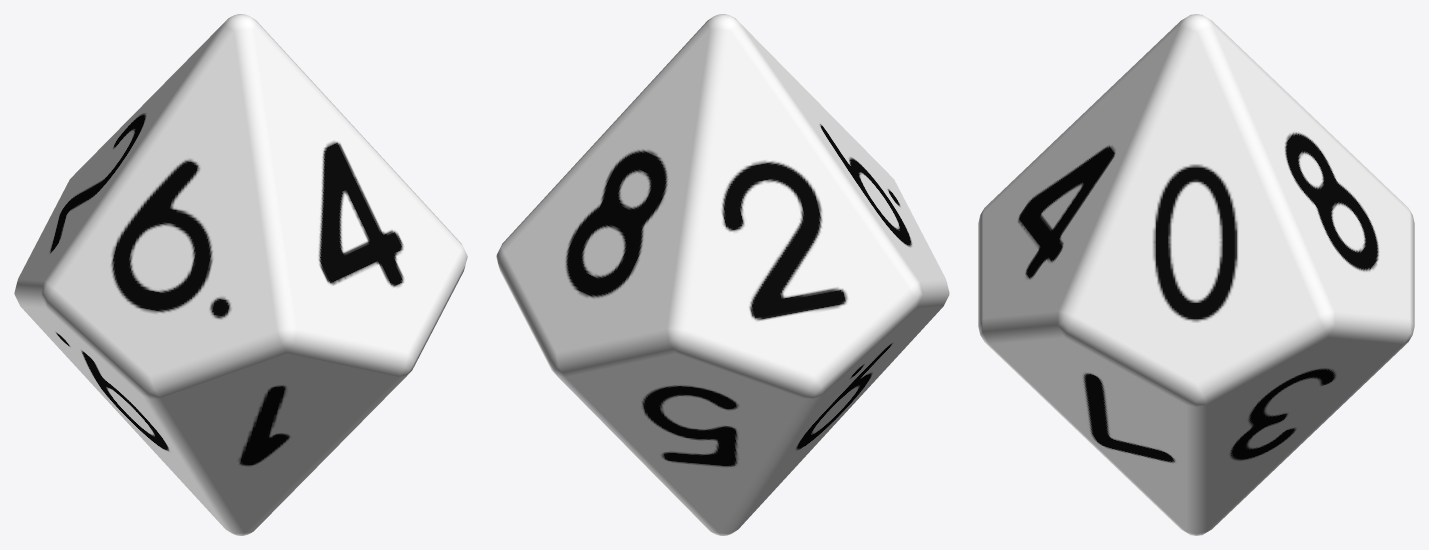
3 views of the same model, side by side, from view 1: azimuth 30°, elevation 25°; view 2: azimuth 150°, elevation 25°; view 3: azimuth 270°, elevation 25° (orthographic).
Visible parts, largest first — view 1: Regular D10; view 2: Regular D10; view 3: Regular D10.
Part boxes in pixels (<box>): Regular D10: <box>14,14,467,535</box>; Regular D10: <box>496,14,949,535</box>; Regular D10: <box>978,14,1414,535</box>.
Size of the model in its own units: 1.57 by 1.97 by 1.5.
Materials: 1 (1 with a texture image).
